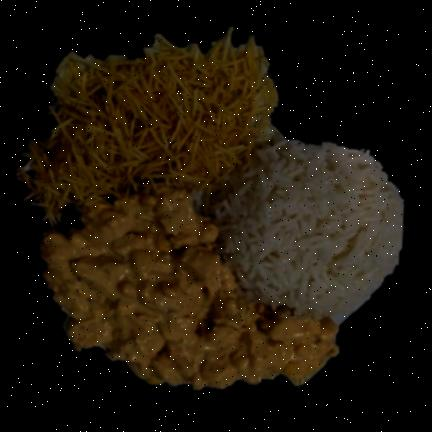chicken: (35, 191, 337, 388)
potato: (18, 39, 279, 227)
rice: (203, 141, 401, 315)
